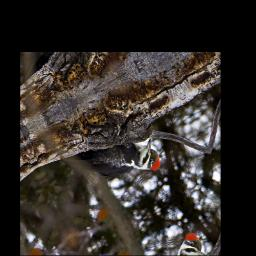Woodpecker: (73, 117, 166, 206)
